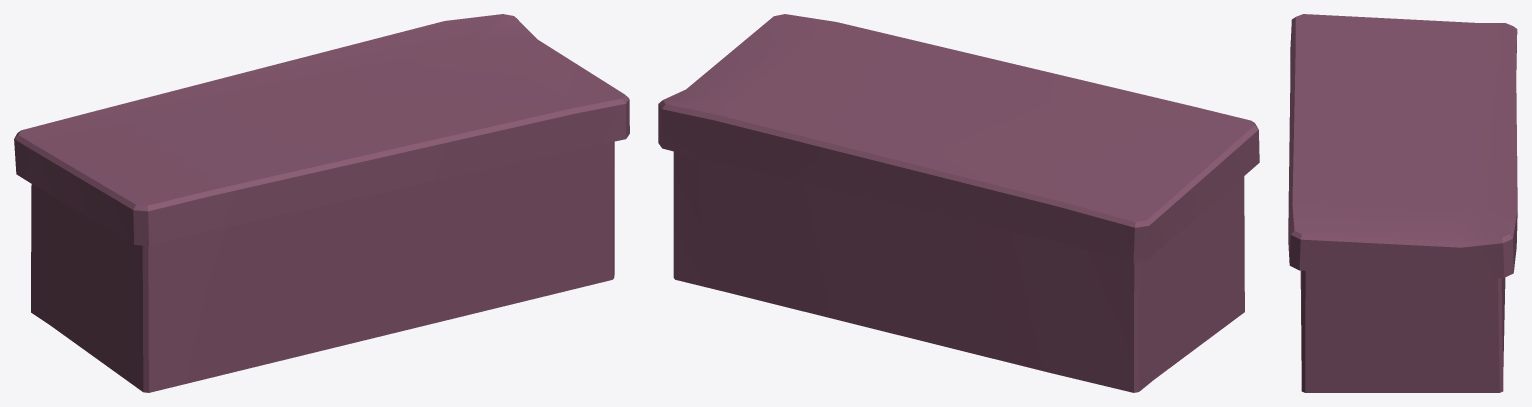
File: shoebox.fbx
3 renders of one model, left to right at view 1: azimuth 30°, elevation 25°; view 2: azimuth 150°, elevation 25°; view 3: azimuth 270°, elevation 25°, orthographic. The views are drawn at different scales.
Parts seen in each view (by area): view 1: pCube1; view 2: pCube1; view 3: pCube1.
Part boxes in pixels (x1,y1,x2,y2): pCube1: (14, 14, 629, 392); pCube1: (658, 14, 1259, 392); pCube1: (1288, 14, 1517, 392).
Bounding box in the file's own units: 3.32 × 1.21 × 1.47.
